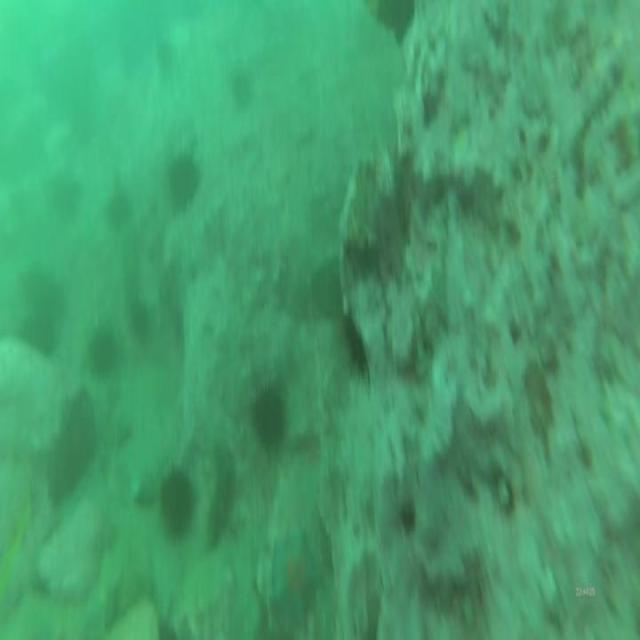echinus: (36, 425, 90, 509), (336, 298, 371, 386), (158, 460, 195, 542), (251, 389, 289, 463), (166, 150, 203, 213), (86, 324, 121, 381), (102, 185, 137, 239), (19, 311, 55, 357), (50, 176, 84, 224), (231, 70, 253, 112)
starfish: (268, 523, 326, 635)
